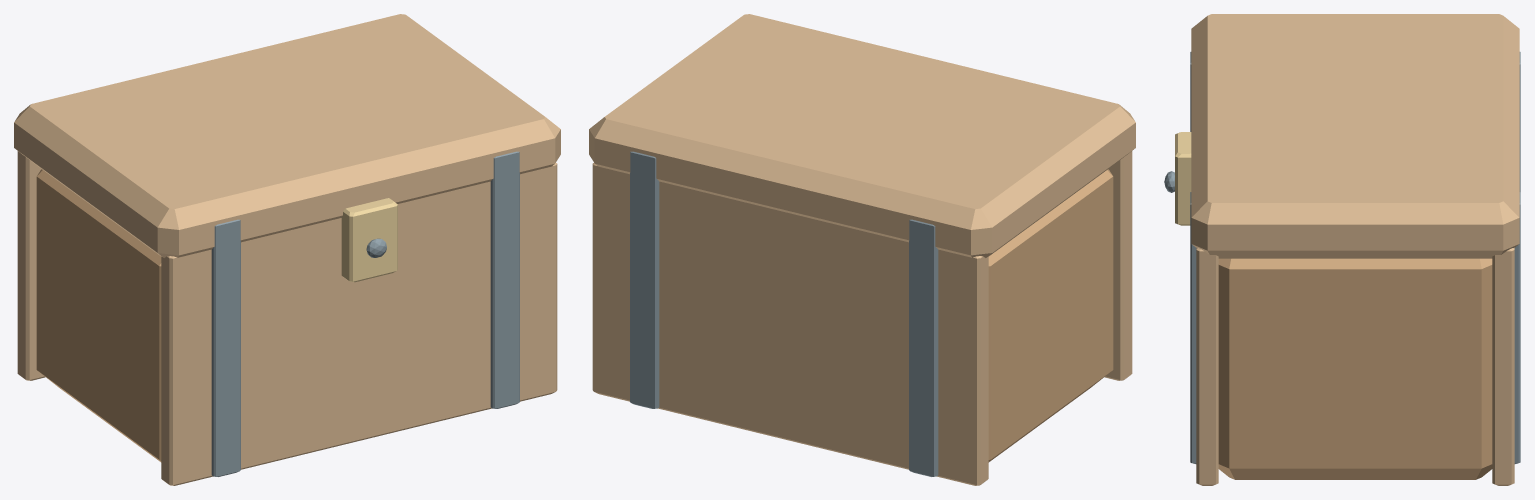
File: storage_chest.glb
3 renders of one model, left to right at view 1: azimuth 30°, elevation 25°; view 2: azimuth 150°, elevation 25°; view 3: azimuth 270°, elevation 25°, orthographic. The views are drawn at different scales.
Visible parts, largest first — view 1: storage_chest_wood_honey, storage_chest_wood_mid, storage_chest_iron, storage_chest_bronze; view 2: storage_chest_wood_honey, storage_chest_wood_mid, storage_chest_iron; view 3: storage_chest_wood_honey, storage_chest_wood_mid, storage_chest_iron, storage_chest_bronze.
Boxes of the visible parts, box(x1,y1,x2,y2) form: storage_chest_wood_honey: box(14, 14, 560, 485); storage_chest_wood_mid: box(36, 169, 161, 462); storage_chest_iron: box(211, 151, 519, 476); storage_chest_bronze: box(341, 198, 397, 282); storage_chest_wood_honey: box(589, 14, 1135, 485); storage_chest_wood_mid: box(988, 169, 1113, 462); storage_chest_iron: box(630, 151, 938, 476); storage_chest_wood_honey: box(1191, 14, 1519, 485); storage_chest_wood_mid: box(1218, 258, 1492, 479); storage_chest_iron: box(1164, 52, 1520, 463); storage_chest_bronze: box(1175, 132, 1191, 225).
Bounding box in the file's own units: 1.33 × 0.875 × 0.988.
